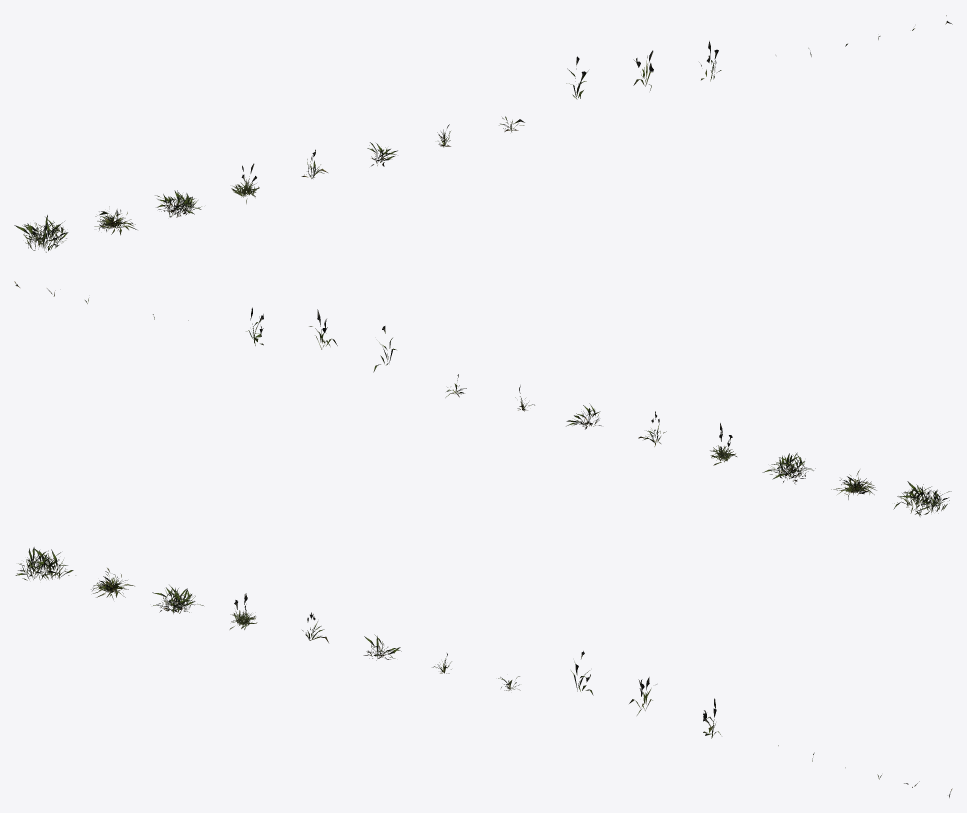
Rendered from grass_medium_01.glb.
3 renders of one model, top to bottom at view 1: azimuth 30°, elevation 25°; view 2: azimuth 150°, elevation 25°; view 3: azimuth 330°, elevation 25°, orthographic.
Parts seen in each view (by area): view 1: grass_medium_01_small_a_LOD0; view 2: grass_medium_01_small_a_LOD0; view 3: grass_medium_01_small_a_LOD0.
Part boxes in pixels (<box>): grass_medium_01_small_a_LOD0: <box>14,15,952,252</box>; grass_medium_01_small_a_LOD0: <box>14,281,951,516</box>; grass_medium_01_small_a_LOD0: <box>15,547,952,797</box>.
Bounding box in the file's own units: 5.59 × 0.3272 × 0.3266.
1 material, 1 textured.
